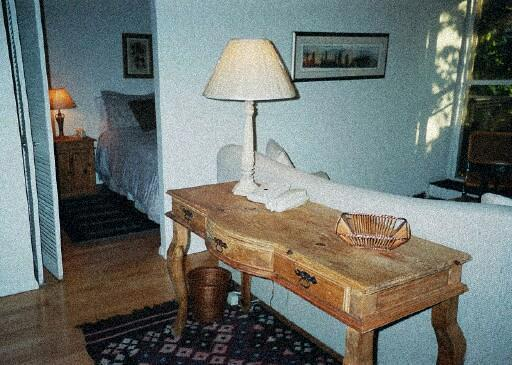Bote de Basura: (190, 266, 231, 325)
